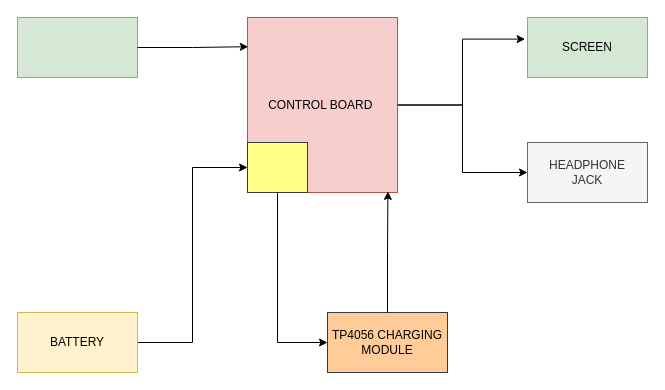
The diagram is 665 pixels wide and 390 high, and some of its shapes have lost their labels. The centre of each missing label's shape, as x and y in pixels:
CONTROL BUTTONS: (77,47)
ON/OFF SWITCH: (277,167)
